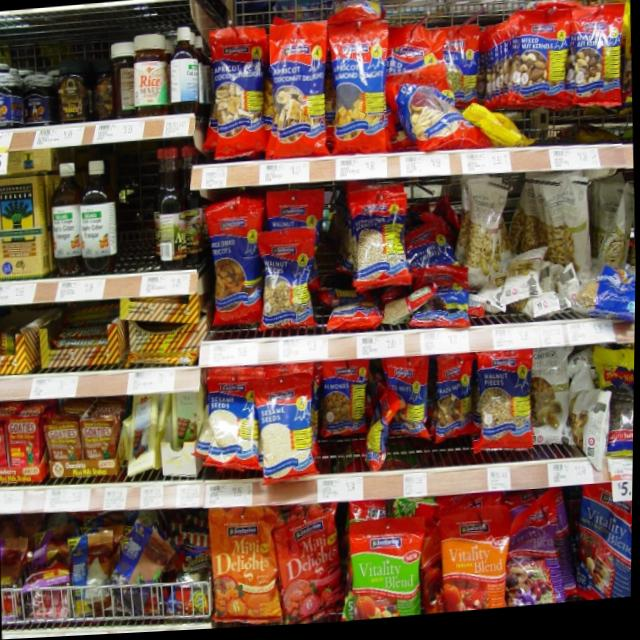q274: (345, 516, 422, 624)
q55: (0, 174, 54, 287)
